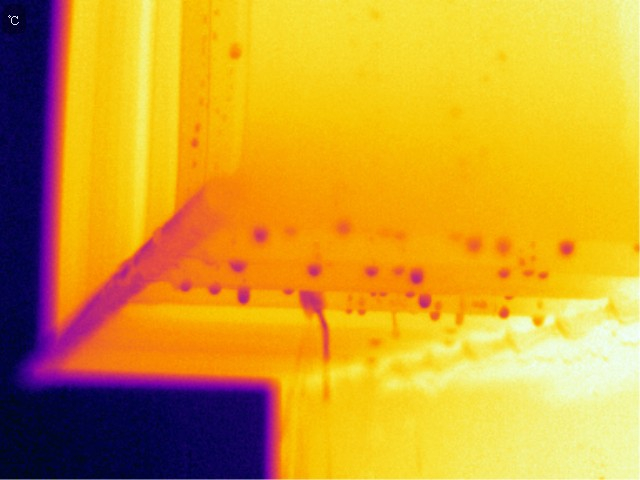Water: (414, 292, 447, 321), (225, 40, 250, 66), (459, 233, 487, 255), (334, 216, 359, 240), (249, 222, 274, 244), (300, 261, 329, 279), (491, 303, 518, 322), (557, 236, 579, 259), (235, 285, 256, 309), (223, 257, 250, 275), (492, 233, 512, 256), (490, 264, 517, 281), (342, 304, 369, 320), (523, 267, 551, 280), (409, 265, 428, 284), (529, 311, 551, 327), (206, 280, 226, 296), (359, 264, 383, 277), (276, 286, 298, 297), (368, 289, 389, 299), (177, 280, 194, 292)
